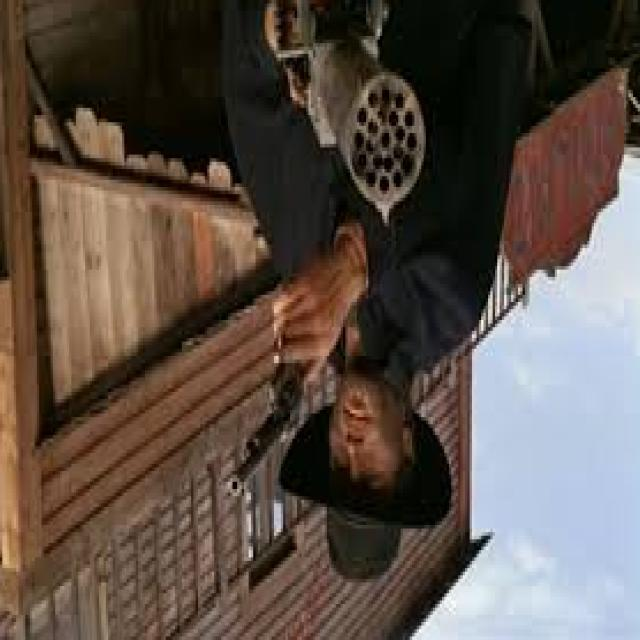gun: (264, 0, 446, 230), (220, 276, 345, 520)
